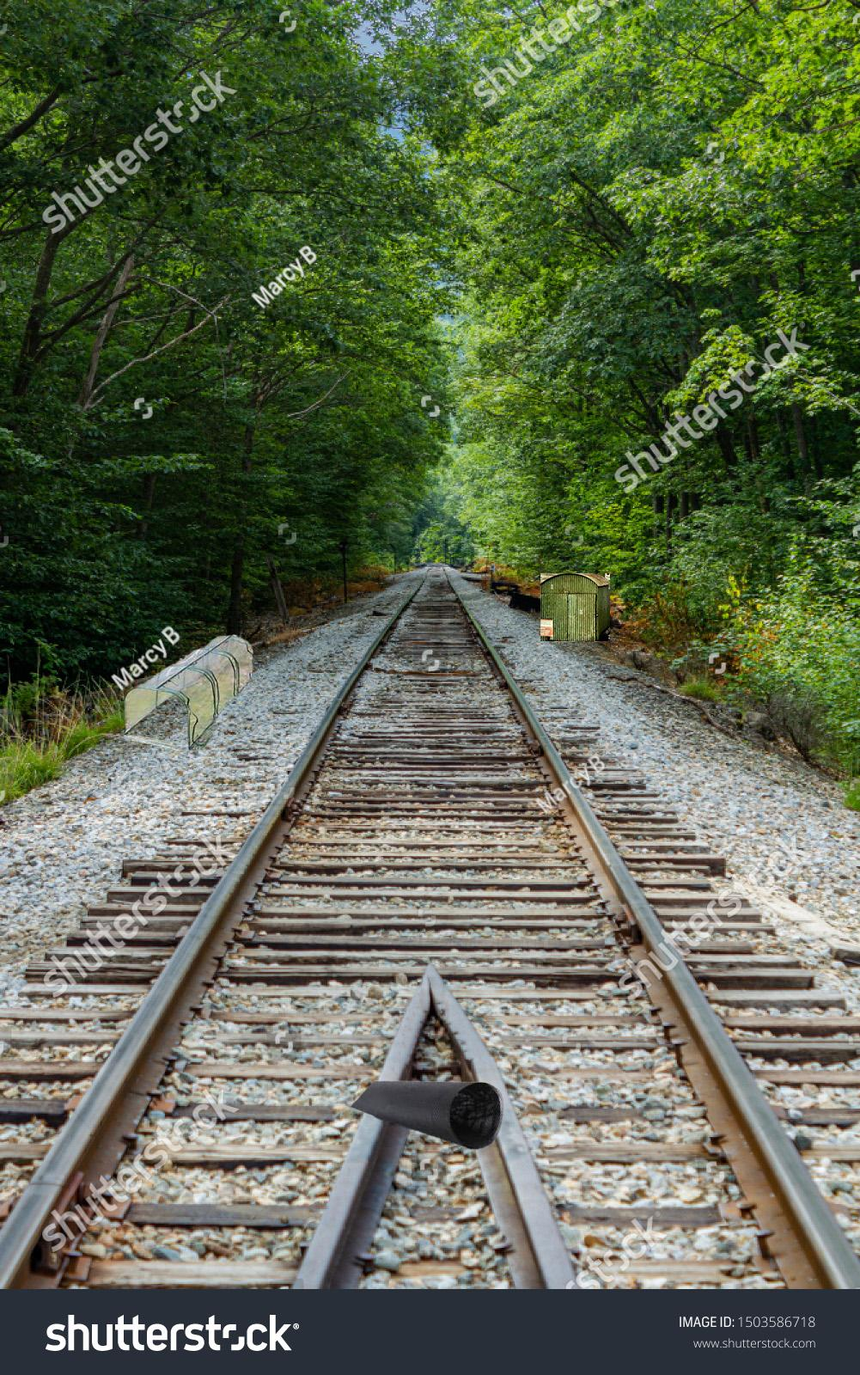Green_house: (112, 613, 266, 773), (524, 556, 624, 670)
